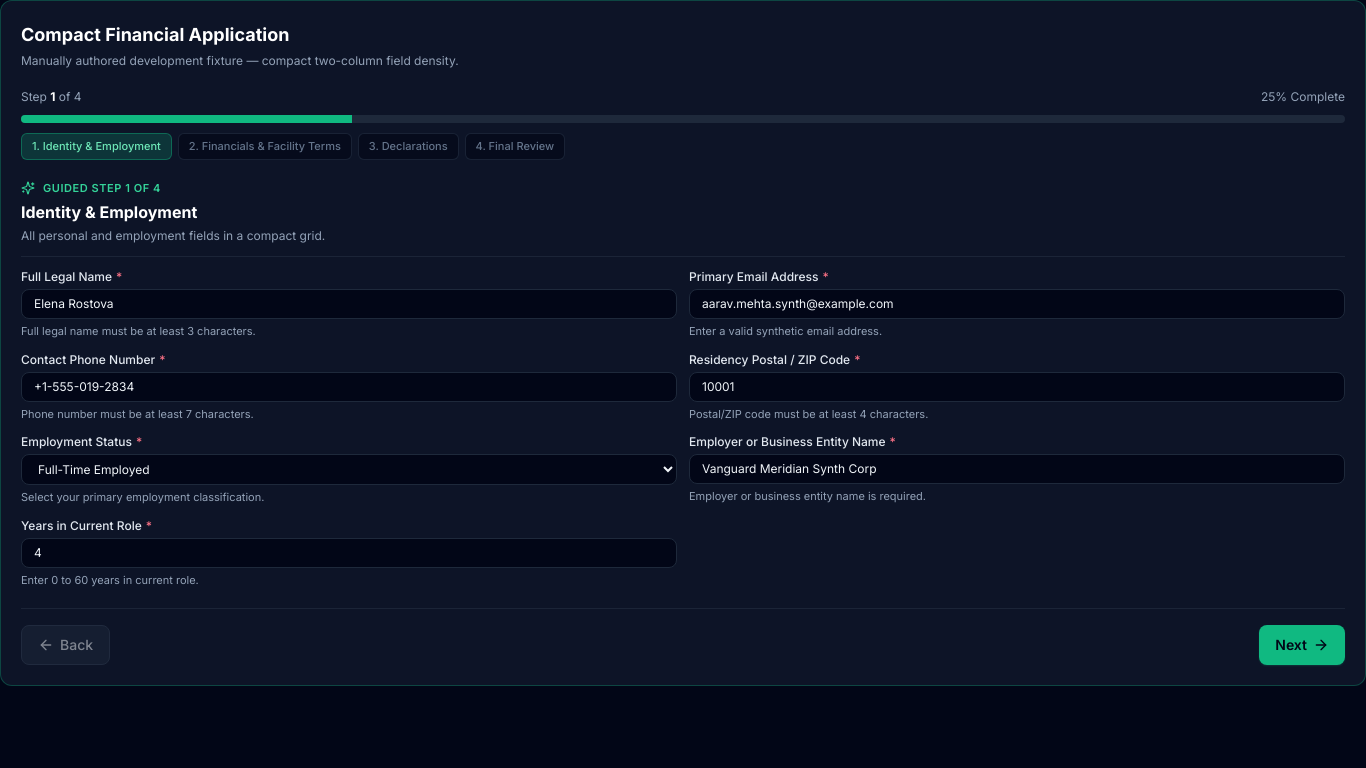
Day 7: Dynamic React Renderer (8 Core Tests) › 7. final review step displays current shared form values
Click the button with test id "adaptive-next-btn": coordinates (1302, 645) top-left (1259, 625), bottom-right (1345, 665)
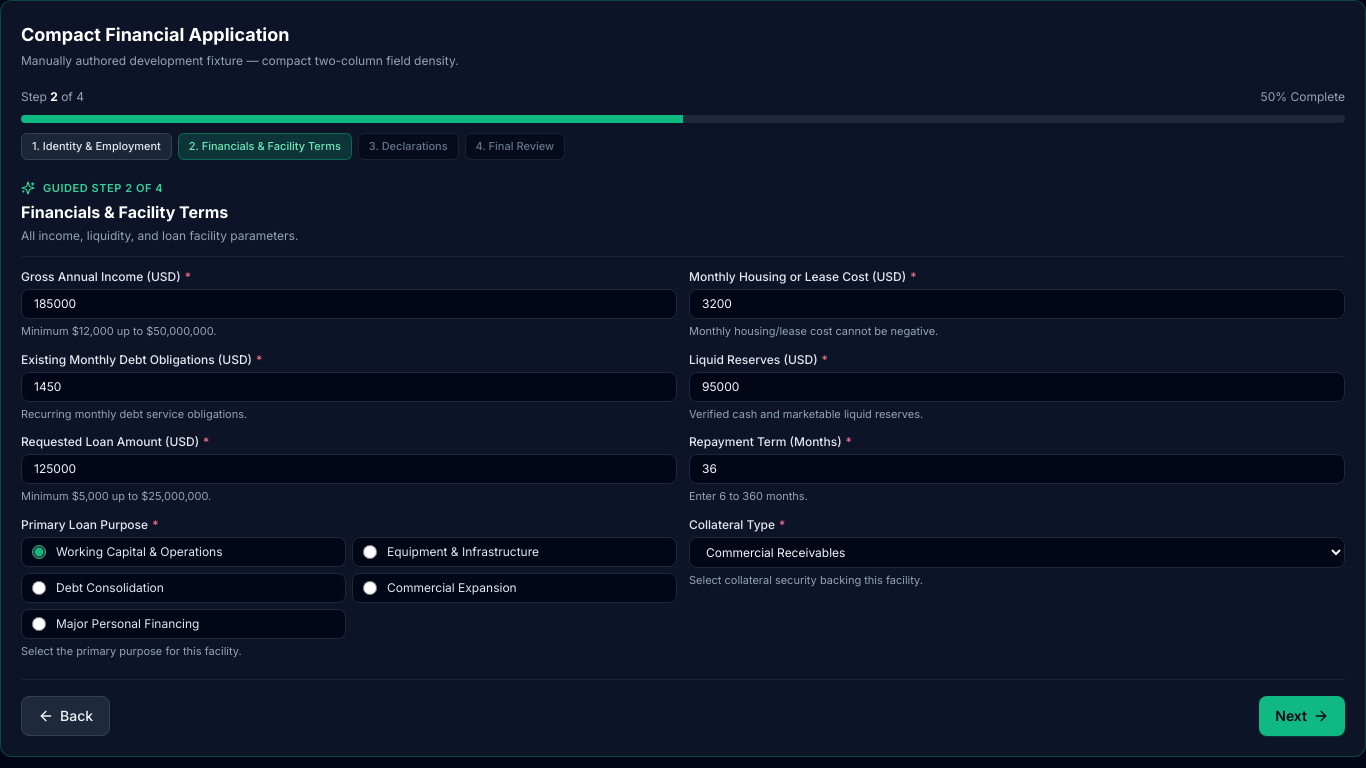
Expected: the text with test id "adaptive-progress-step" reads "2", top-left (50, 89), bottom-right (58, 104)
Click the button with test id "adaptive-next-btn": coordinates (1302, 716) top-left (1259, 696), bottom-right (1345, 736)
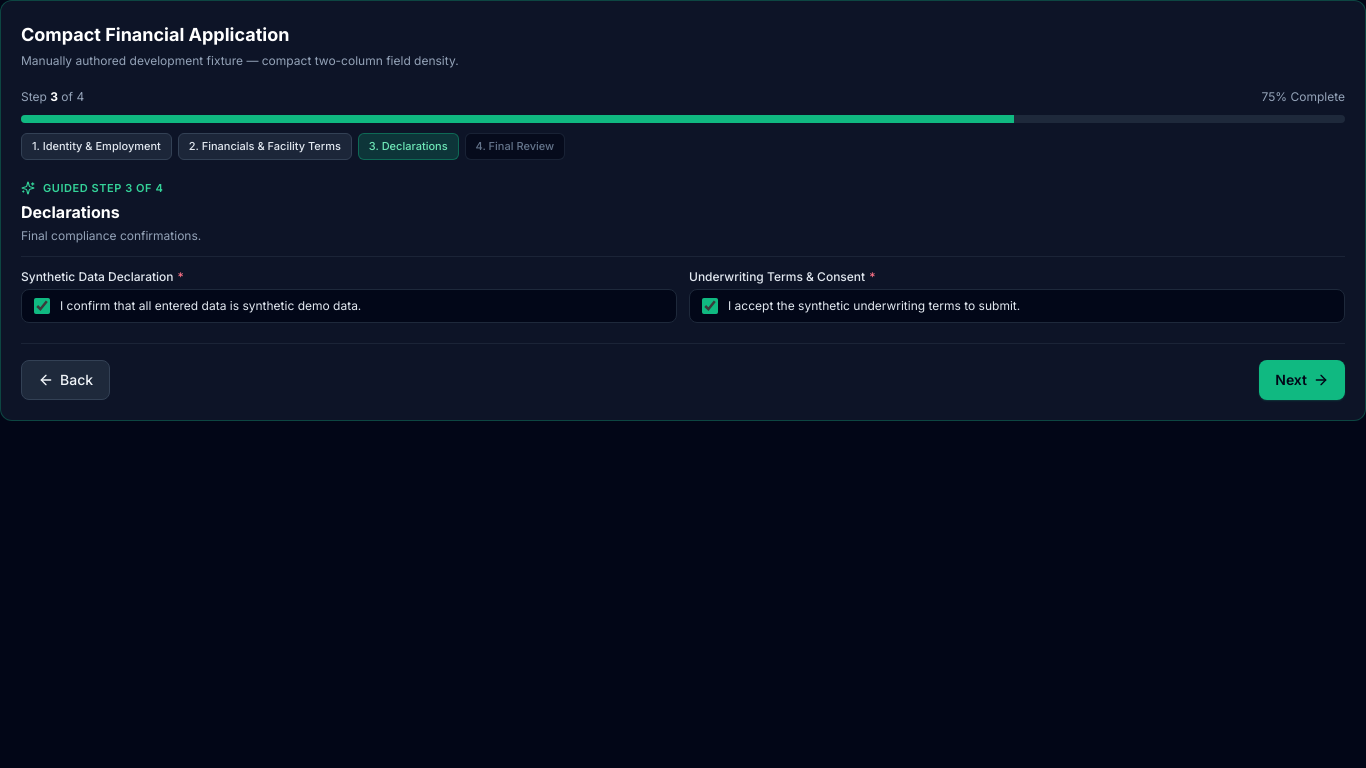
Expected: the text with test id "adaptive-progress-step" reads "3", top-left (50, 89), bottom-right (58, 104)
Click the button with test id "adaptive-next-btn": coordinates (1302, 380) top-left (1259, 360), bottom-right (1345, 400)
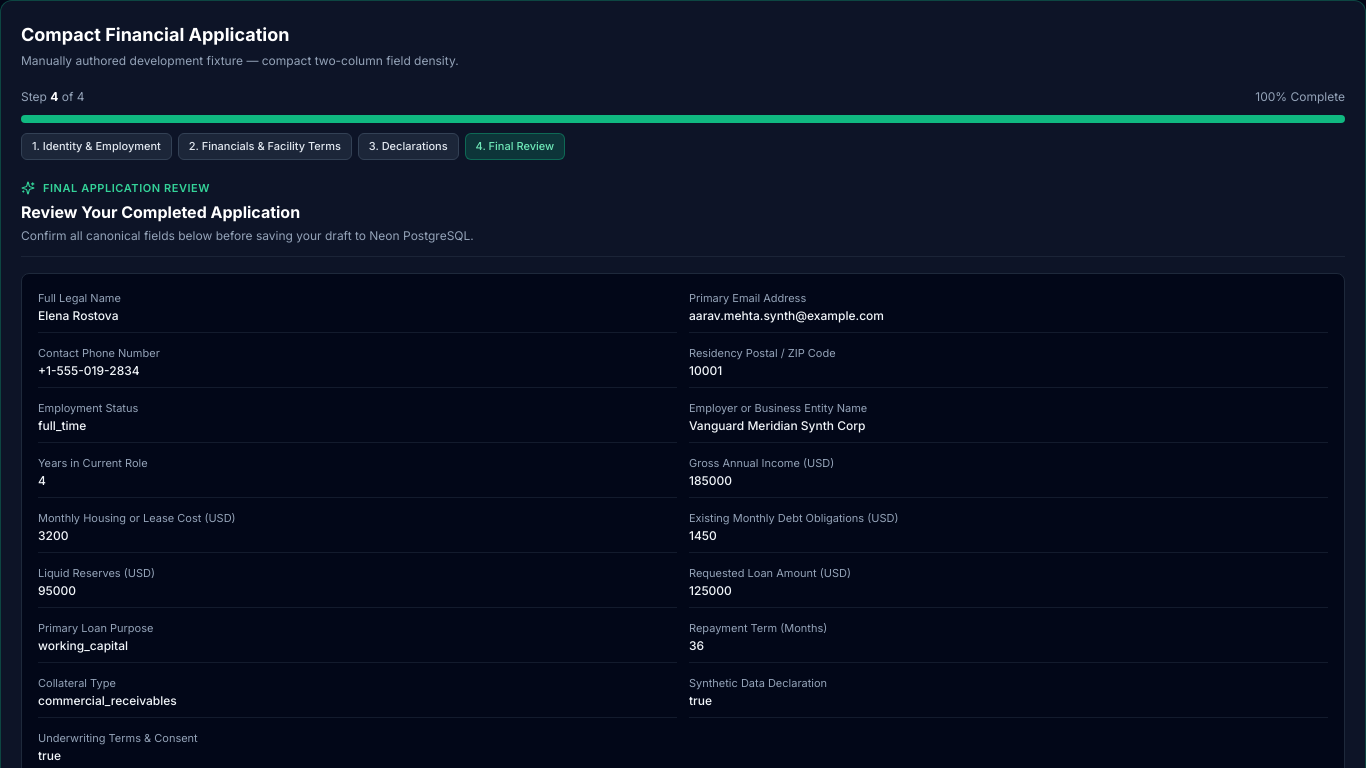
Expected: the text with test id "adaptive-review-value-fullName" reads "Elena Rostova", top-left (38, 308), bottom-right (118, 323)
Expected: the text with test id "adaptive-review-value-requestedLoanAmount" reads "125000", top-left (689, 583), bottom-right (732, 598)
